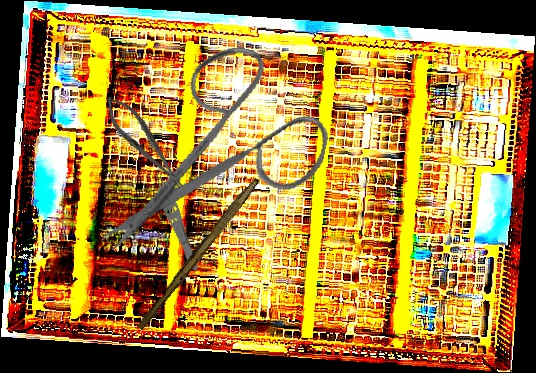Iris Scissors: (99, 27, 343, 293)
Needle Holder: (97, 89, 192, 197)
Scalpel Handle: (135, 173, 261, 334)
Tissue Forceps: (147, 161, 205, 275)
